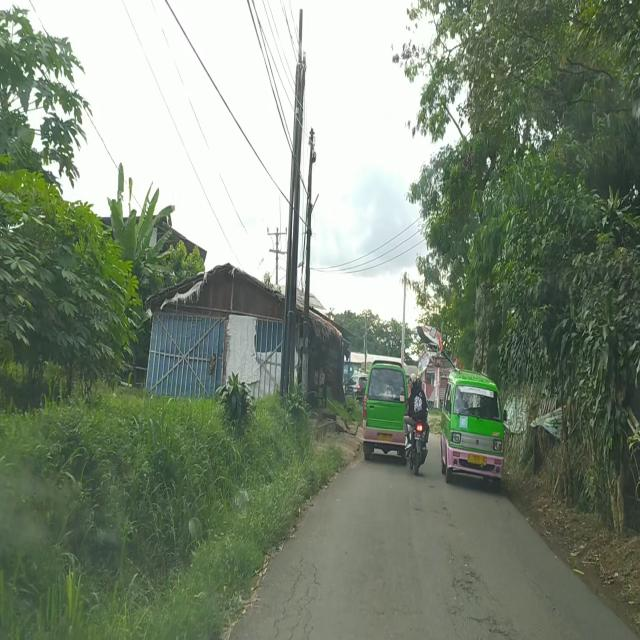Drain Hole: (446, 558, 516, 640), (273, 554, 327, 640)
